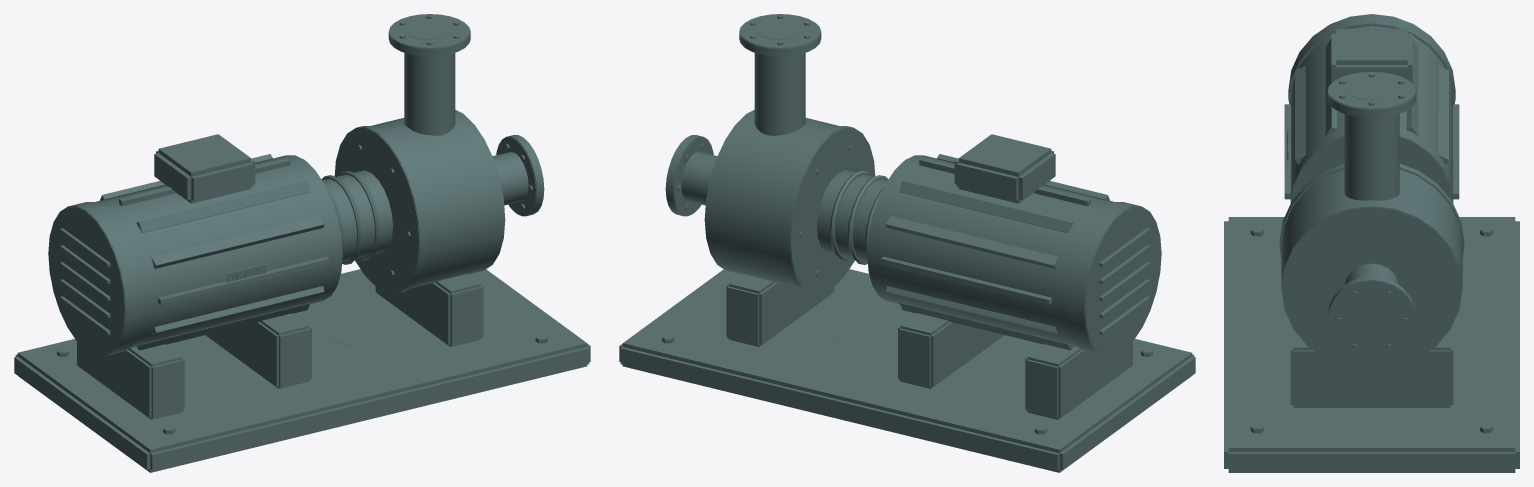
File: OBJ-031_BombaIndustrial.fbx
3 renders of one model, left to right at view 1: azimuth 30°, elevation 25°; view 2: azimuth 150°, elevation 25°; view 3: azimuth 270°, elevation 25°, orthographic. The views are drawn at different scales.
Parts seen in each view (by area): view 1: GEO-OBJ-031_BombaIndustrial.004; view 2: GEO-OBJ-031_BombaIndustrial.004; view 3: GEO-OBJ-031_BombaIndustrial.004.
Part boxes in pixels (bbox=[...]): GEO-OBJ-031_BombaIndustrial.004: bbox=[14, 14, 590, 472]; GEO-OBJ-031_BombaIndustrial.004: bbox=[619, 14, 1195, 472]; GEO-OBJ-031_BombaIndustrial.004: bbox=[1224, 14, 1519, 472].
Bounding box in the file's own units: 1.5 × 1 × 0.8.
